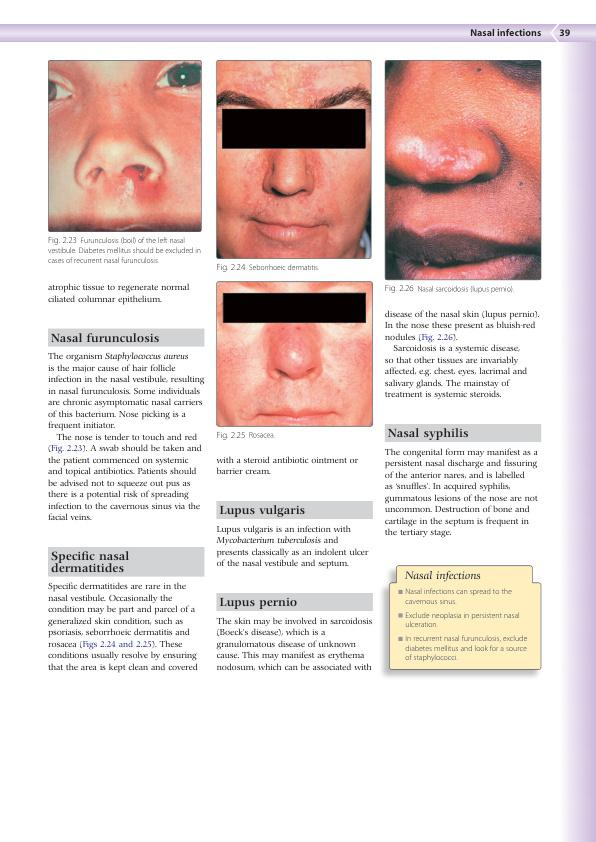caption: (47, 235, 202, 265), (383, 283, 516, 294), (216, 263, 320, 273), (403, 570, 482, 583), (215, 430, 276, 441)
header: (470, 28, 542, 37)
image: (384, 59, 542, 281), (215, 59, 373, 260), (47, 59, 202, 232), (215, 280, 373, 427)
list: (395, 586, 529, 663)
section-heading: (50, 550, 130, 574), (50, 331, 160, 343), (387, 426, 470, 441), (219, 504, 306, 518), (219, 596, 298, 610)
text: (46, 350, 205, 522), (47, 580, 199, 674), (383, 309, 539, 400), (384, 448, 539, 539), (215, 616, 374, 672), (215, 524, 370, 569), (47, 282, 190, 305), (215, 455, 360, 476)
